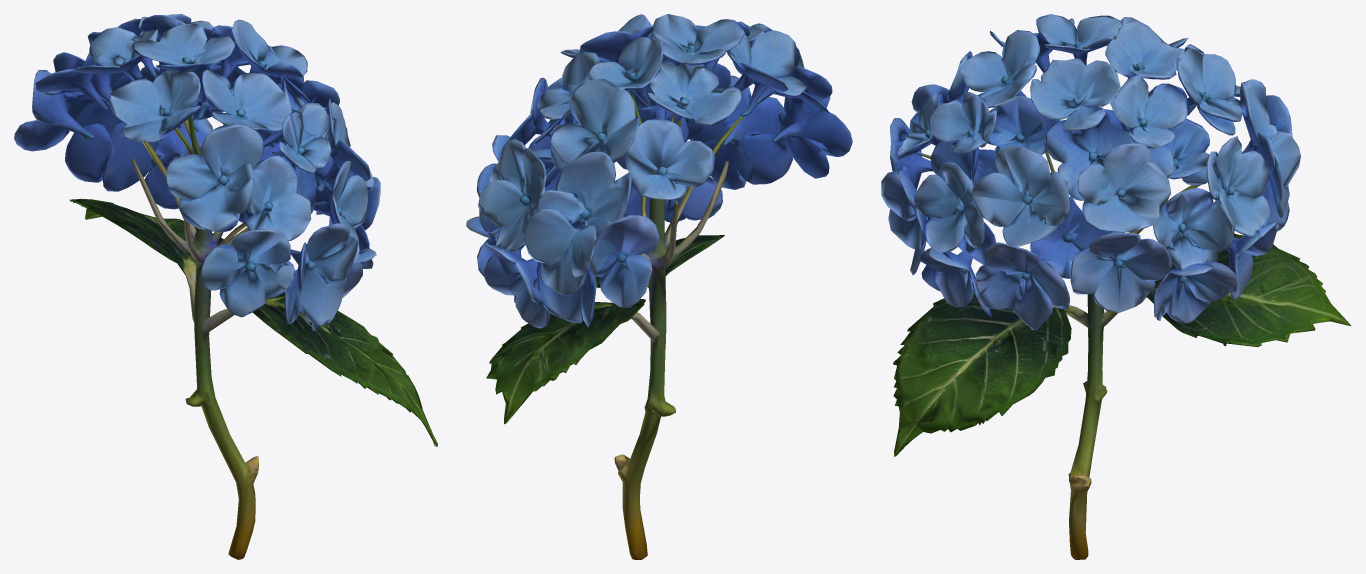
File: blue hydrangea 2.glb
3 views of the same model, side by side, from view 1: azimuth 30°, elevation 25°; view 2: azimuth 150°, elevation 25°; view 3: azimuth 270°, elevation 25° (orthographic). The views are drawn at different scales.
Parts seen in each view (by area): view 1: tripo_node_18e0b2c8-388a-4509-8e54-3868b55a92c1; view 2: tripo_node_18e0b2c8-388a-4509-8e54-3868b55a92c1; view 3: tripo_node_18e0b2c8-388a-4509-8e54-3868b55a92c1.
Boxes of the visible parts, <box> form: tripo_node_18e0b2c8-388a-4509-8e54-3868b55a92c1: <box>14,14,437,559</box>; tripo_node_18e0b2c8-388a-4509-8e54-3868b55a92c1: <box>466,14,852,559</box>; tripo_node_18e0b2c8-388a-4509-8e54-3868b55a92c1: <box>881,14,1350,559</box>.
Bounding box in the file's own units: 0.4978 × 0.9781 × 0.8102.
Materials: 1 (1 with a texture image).
